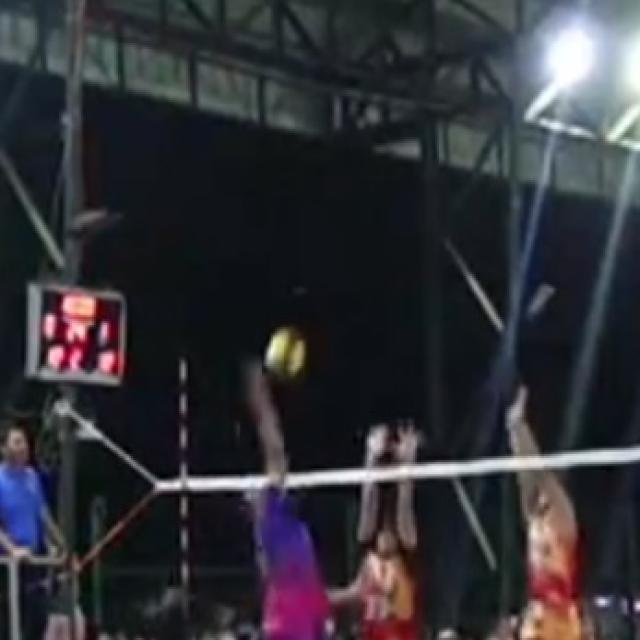volleyball: (264, 324, 306, 378)
